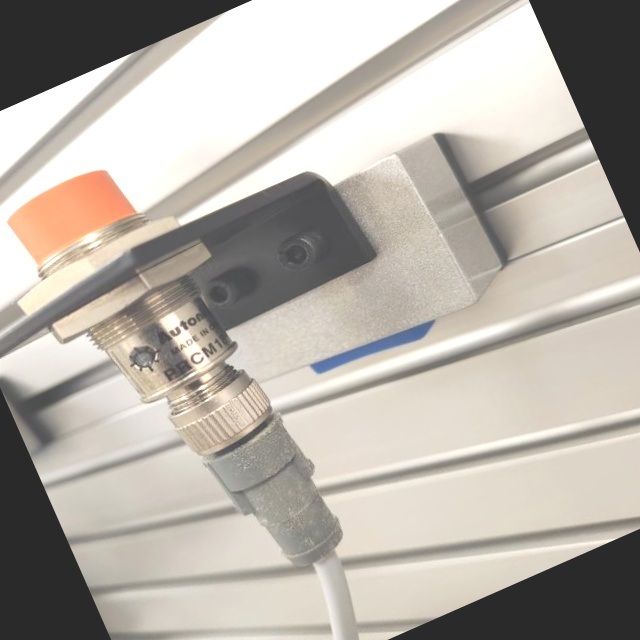inductive sensor: (0, 24, 600, 640)
